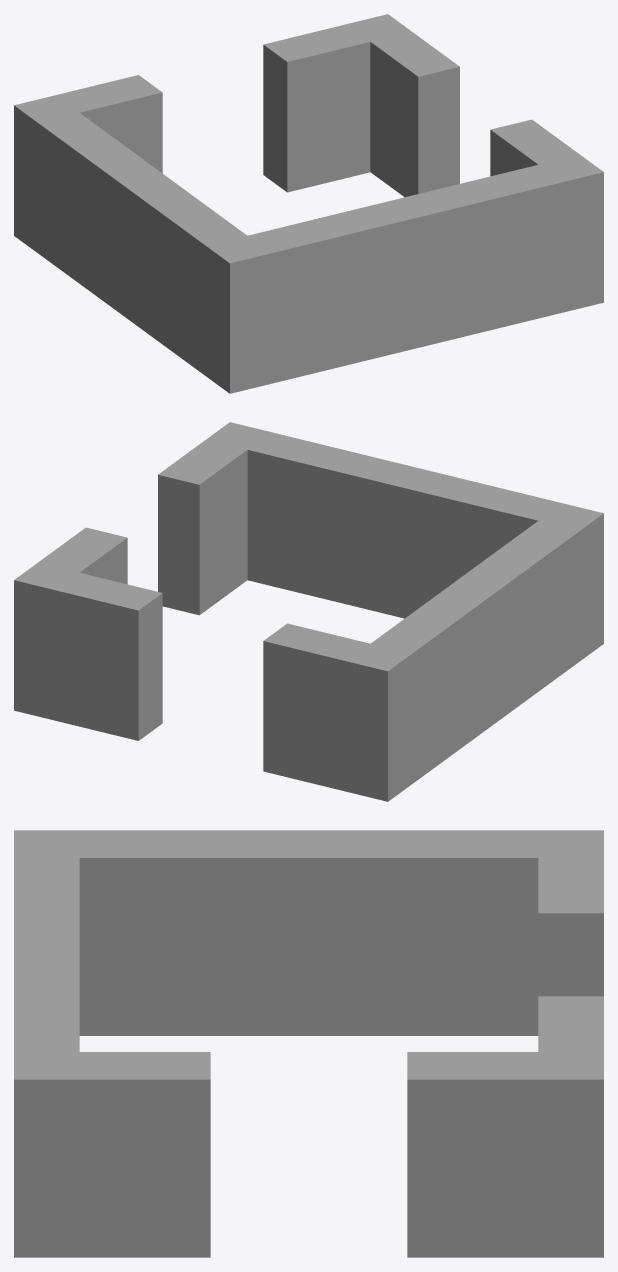
The model's file is 2wallsCorn.obj.
3 renders of one model, top to bottom at view 1: azimuth 30°, elevation 25°; view 2: azimuth 150°, elevation 25°; view 3: azimuth 270°, elevation 25°, orthographic. The views are drawn at different scales.
Size of the model in its own units: 0.9 by 0.3 by 0.9.
1 material, 1 textured.
